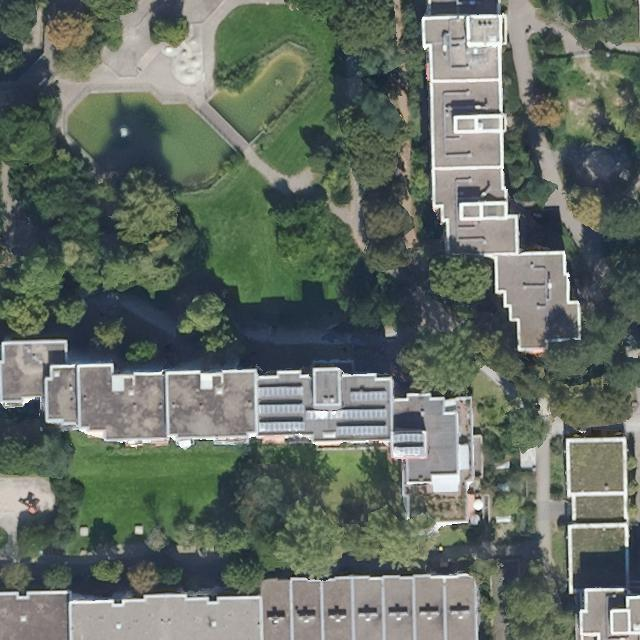PV: (336, 388, 390, 437), (258, 381, 306, 431), (391, 431, 426, 457)
